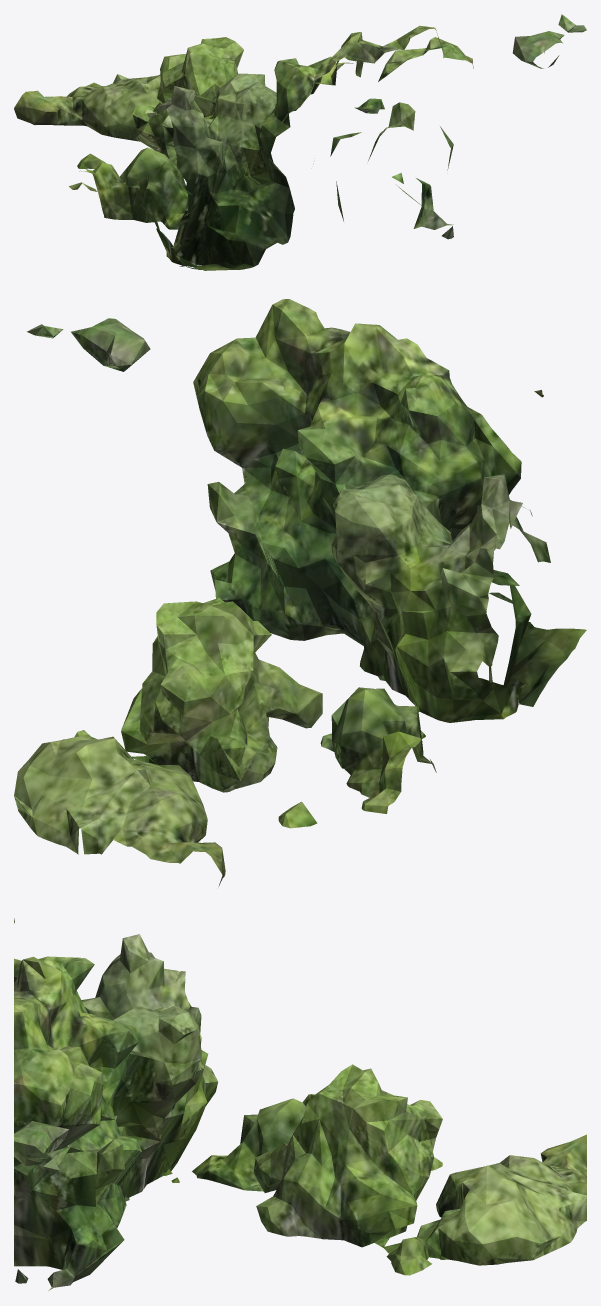
3 views of the same model, one above another, from view 1: azimuth 30°, elevation 25°; view 2: azimuth 150°, elevation 25°; view 3: azimuth 270°, elevation 25° (orthographic). The views are drawn at different scales.
Size of the model in its own units: 25.28 by 13.61 by 26.11.
3 materials, 3 textured.
